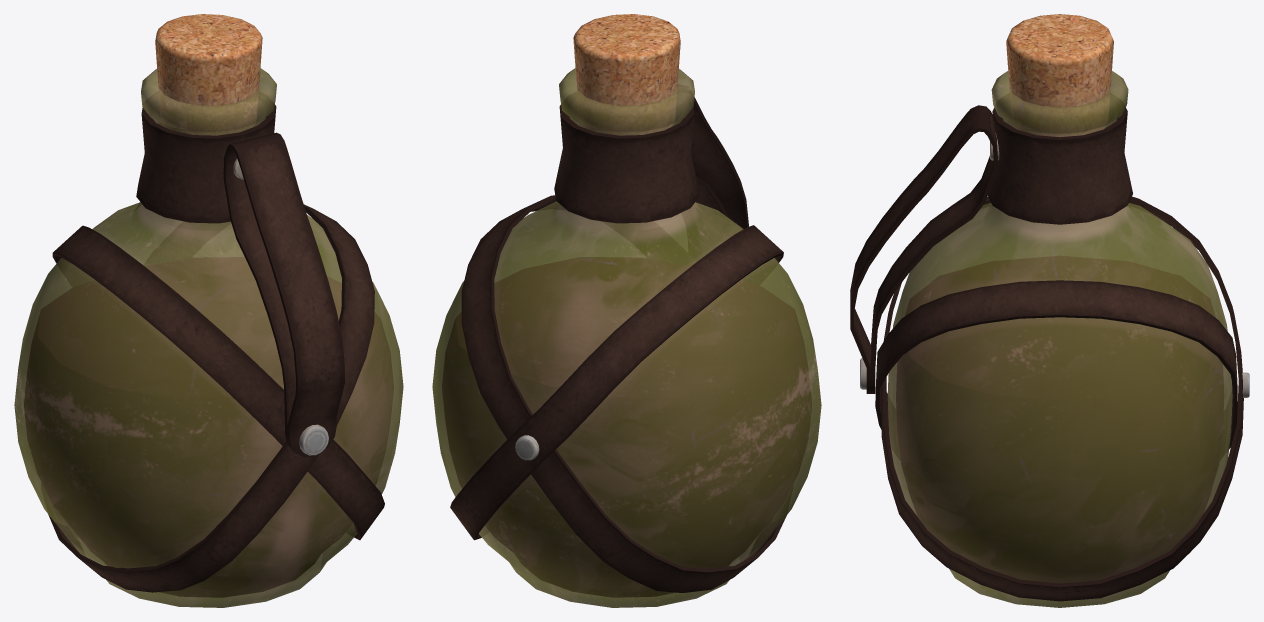
The picture shows the model from 3 angles, left to right: view 1: azimuth 30°, elevation 25°; view 2: azimuth 150°, elevation 25°; view 3: azimuth 270°, elevation 25°; orthographic projection.
Visible parts, largest first — view 1: Object_3, Object_5, Object_2, Object_4; view 2: Object_3, Object_5, Object_2, Object_4; view 3: Object_3, Object_5, Object_2, Object_4.
Boxes of the visible parts, x1,y1,x2,y2 form: Object_3: [14, 68, 403, 607]; Object_5: [24, 257, 393, 597]; Object_2: [48, 105, 384, 592]; Object_4: [155, 14, 328, 455]; Object_3: [432, 68, 821, 607]; Object_5: [442, 257, 811, 597]; Object_2: [450, 97, 786, 592]; Object_4: [515, 14, 680, 460]; Object_3: [887, 71, 1232, 607]; Object_5: [896, 256, 1223, 582]; Object_2: [850, 105, 1243, 601]; Object_4: [860, 14, 1249, 397].
Size of the model in its own units: 19.09 by 28.6 by 19.71.
Materials: 4 (4 with a texture image).
